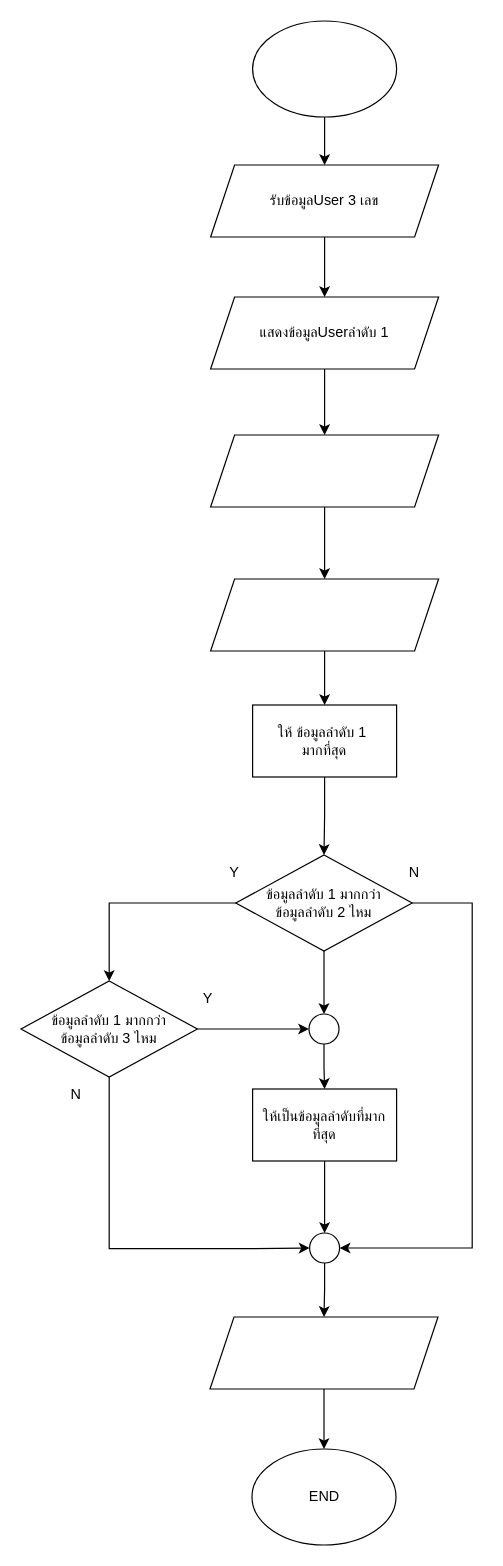
Image size: 503x1566. Some labels were removed from this diagram. The centre of each missing label's shape, as x and y in pixels:
Start: the point at 324,68
แสดงข้อมูล: the point at 323,1352
แสดงรับข้อมูลUserลำดับ 2: the point at 324,470
แสดงรับข้อมูลUserลำดับ 3: the point at 324,614
